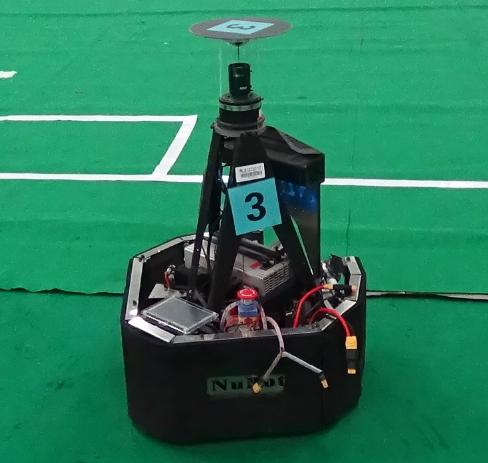robot: (114, 11, 369, 447)
